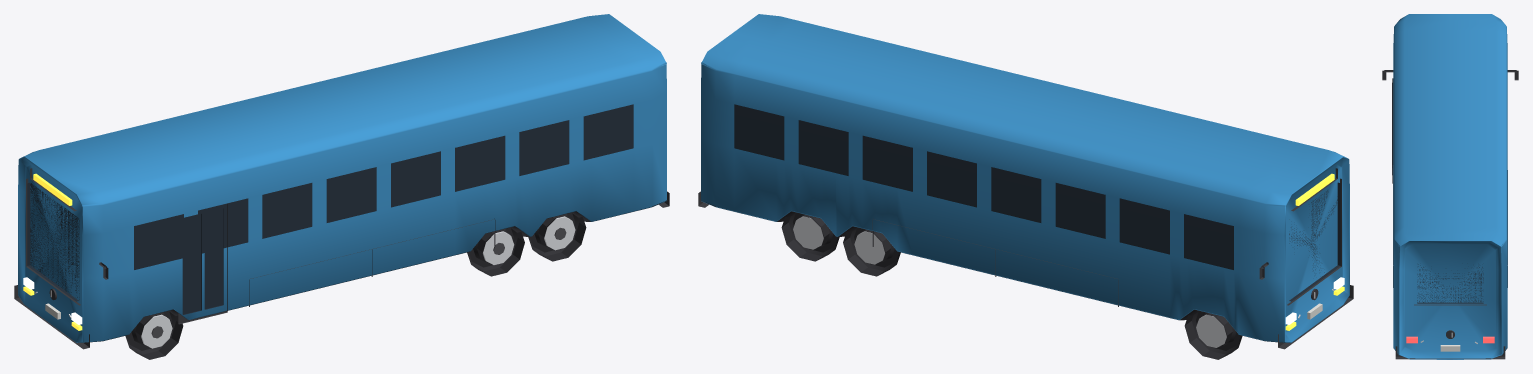
The model's file is bus_azure.glb.
3 renders of one model, left to right at view 1: azimuth 30°, elevation 25°; view 2: azimuth 150°, elevation 25°; view 3: azimuth 270°, elevation 25°, orthographic. The views are drawn at different scales.
Size of the model in its own units: 1.9 by 0.5419 by 0.4793.
